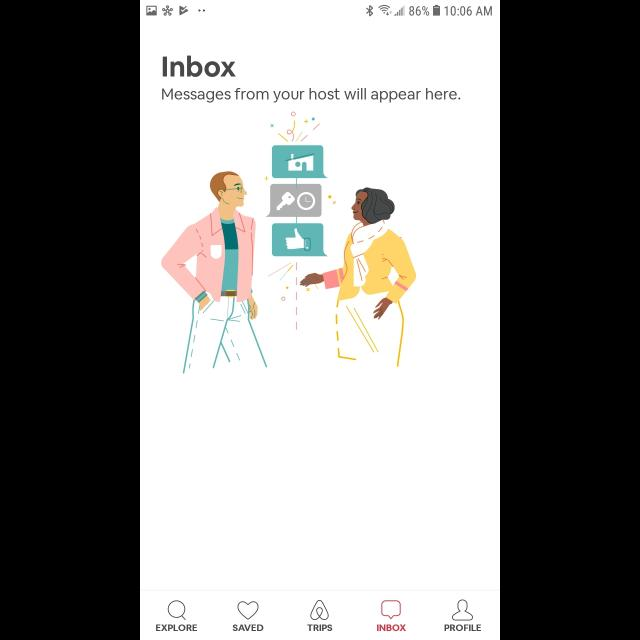icon: (238, 600, 258, 620), (381, 600, 401, 620), (452, 600, 472, 620), (168, 600, 186, 620)
image: (162, 112, 416, 374), (310, 600, 330, 620)
text: (163, 88, 461, 104), (163, 56, 237, 78), (156, 624, 198, 632), (444, 624, 482, 632), (232, 624, 264, 632), (378, 624, 407, 632), (308, 624, 332, 632)
uppertaskbar: (140, 1, 500, 18)
